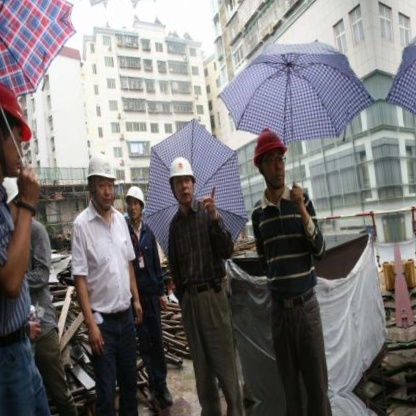red: (0, 71, 41, 171), (247, 120, 292, 171)
white: (81, 147, 120, 188), (163, 153, 200, 190), (123, 179, 148, 209)
